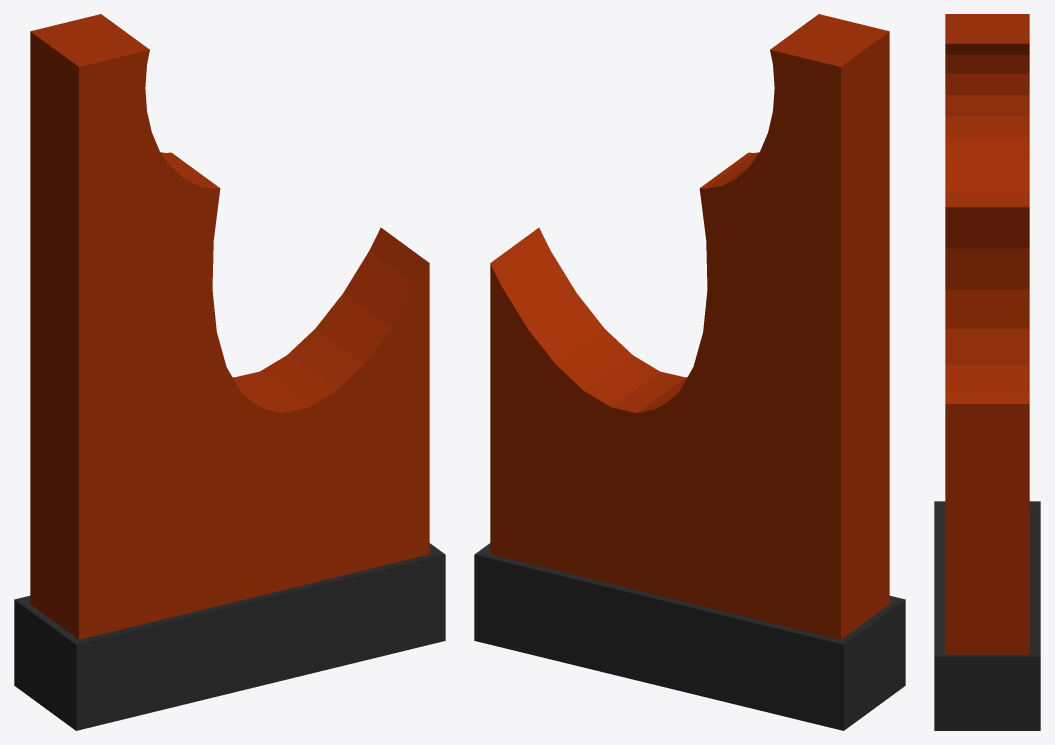
File: denkmal.obj
The picture shows the model from 3 angles, left to right: view 1: azimuth 30°, elevation 25°; view 2: azimuth 150°, elevation 25°; view 3: azimuth 270°, elevation 25°; orthographic projection. The views are drawn at different scales.
Visible parts, largest first — view 1: Mesh1 Cube1 skp4454_1 Model, Mesh2 Cube_001_1 skp4454_1 Model; view 2: Mesh1 Cube1 skp4454_1 Model, Mesh2 Cube_001_1 skp4454_1 Model; view 3: Mesh1 Cube1 skp4454_1 Model, Mesh2 Cube_001_1 skp4454_1 Model.
Boxes of the visible parts, left/top/right/bottom form: Mesh1 Cube1 skp4454_1 Model: left=30, top=14, right=429, bottom=639; Mesh2 Cube_001_1 skp4454_1 Model: left=14, top=543, right=445, bottom=730; Mesh1 Cube1 skp4454_1 Model: left=490, top=14, right=889, bottom=639; Mesh2 Cube_001_1 skp4454_1 Model: left=474, top=543, right=905, bottom=730; Mesh1 Cube1 skp4454_1 Model: left=945, top=14, right=1029, bottom=654; Mesh2 Cube_001_1 skp4454_1 Model: left=934, top=501, right=1040, bottom=730.
Bounding box in the file's own units: 0.784 × 1.33 × 0.2273.
